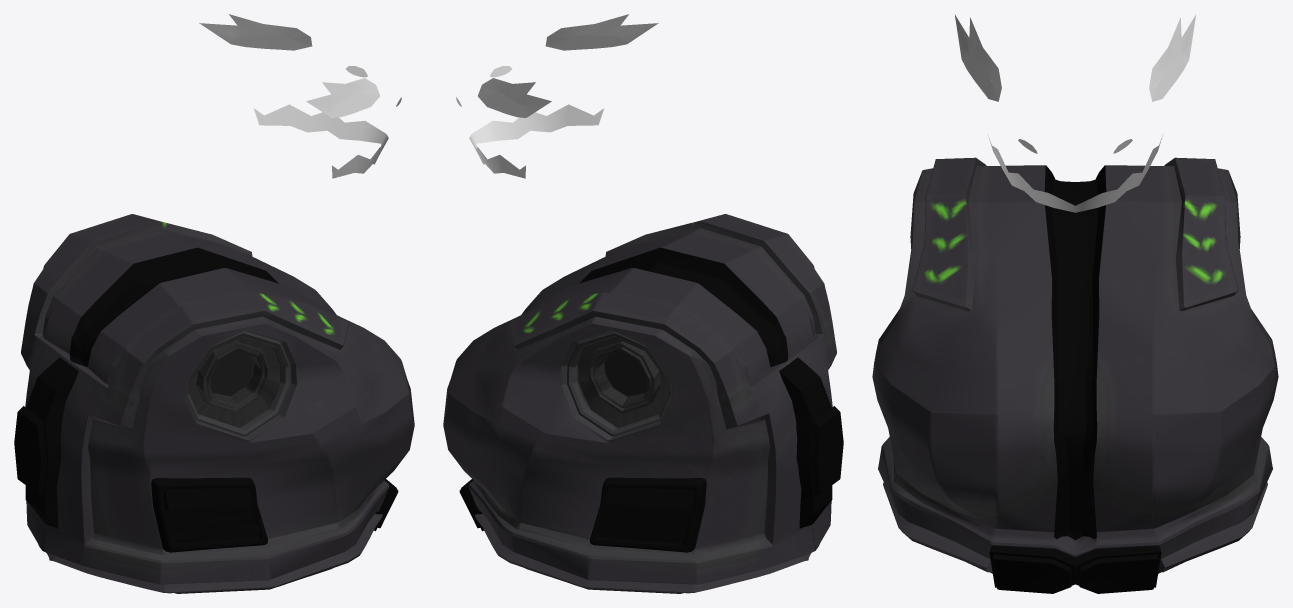
File: AS_DiagF_MOuthIH.fbx
3 renders of one model, left to right at view 1: azimuth 30°, elevation 25°; view 2: azimuth 150°, elevation 25°; view 3: azimuth 270°, elevation 25°, orthographic. The views are drawn at different scales.
Visible parts, largest first — view 1: Chest_armor, Face; view 2: Chest_armor, Face; view 3: Chest_armor, Face.
Part boxes in pixels (x1=…): Chest_armor: x1=14, y1=214, x2=414, y2=593; Face: x1=199, y1=14, x2=401, y2=178; Chest_armor: x1=443, y1=214, x2=843, y2=593; Face: x1=456, y1=14, x2=658, y2=178; Chest_armor: x1=872, y1=157, x2=1278, y2=593; Face: x1=955, y1=15, x2=1195, y2=212.
Size of the model in its own units: 30.86 by 26.77 by 38.9.
